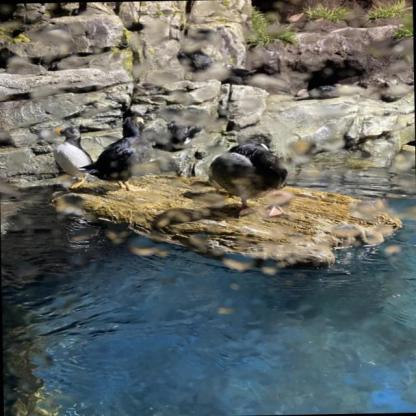puffin: (201, 128, 296, 214), (92, 118, 162, 186), (47, 122, 89, 184)
